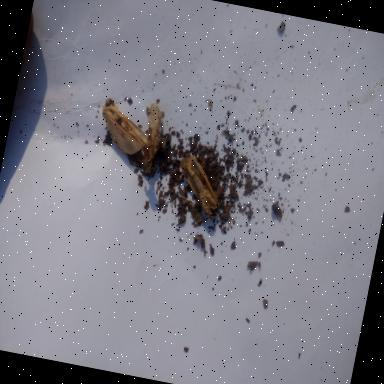abw: (165, 146, 231, 221), (92, 101, 154, 158)
